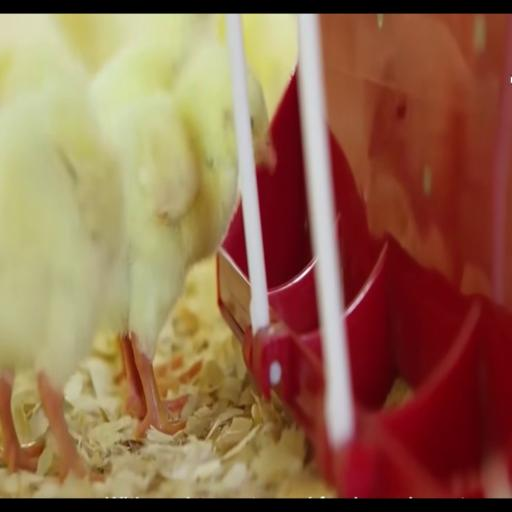chick: (0, 83, 124, 479), (116, 44, 238, 435)
